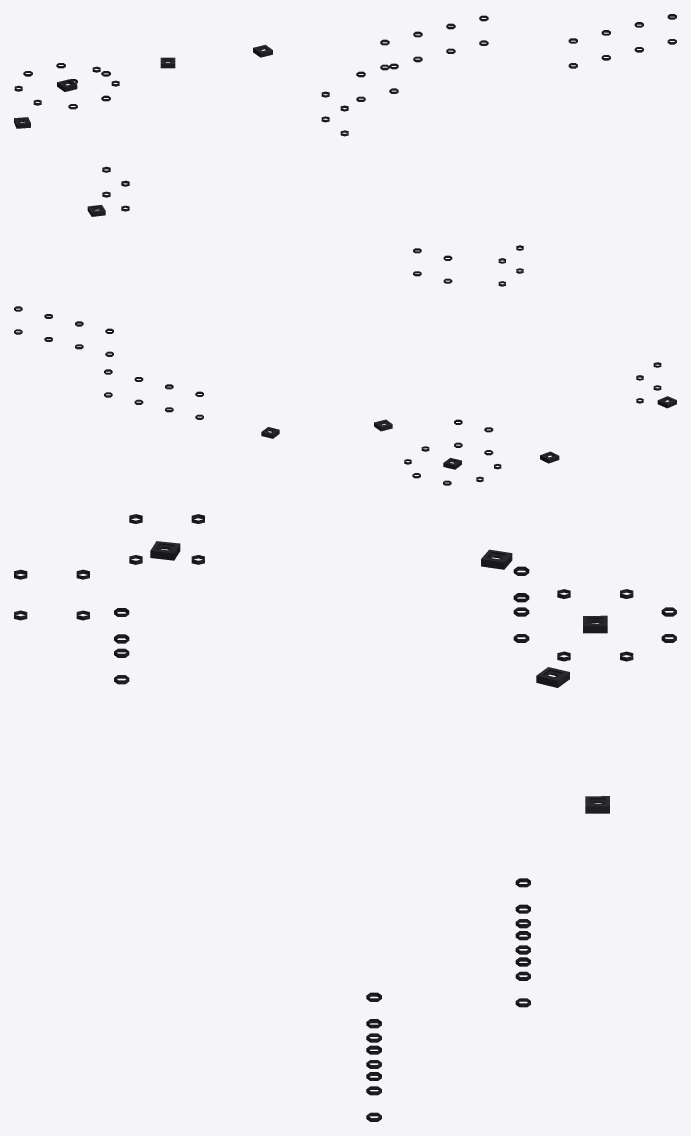
Rendered from Ground_03.FBX.
The picture shows the model from 3 angles, top to bottom: view 1: azimuth 30°, elevation 25°; view 2: azimuth 150°, elevation 25°; view 3: azimuth 270°, elevation 25°; orthographic projection. The views are drawn at different scales.
Parts seen in each view (by area): view 1: Ground_03; view 2: Ground_03; view 3: Ground_03.
Boxes of the visible parts, box(x1,y1,x2,y2) form: Ground_03: box(14, 14, 676, 216); Ground_03: box(14, 245, 676, 485); Ground_03: box(14, 514, 676, 1121).
Bounding box in the file's own units: 57.32 × 10.14 × 30.84.
